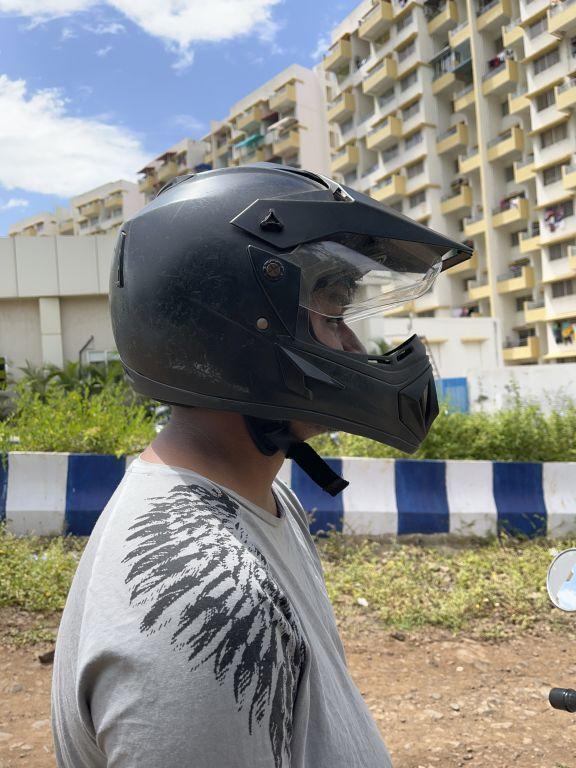helmet: (92, 145, 482, 467)
